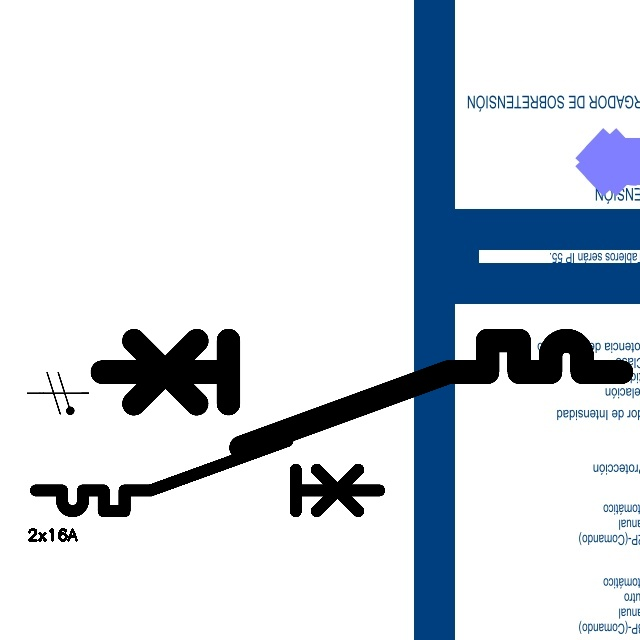interruptor_termomagnetico: (88, 327, 635, 461), (27, 432, 388, 520)
